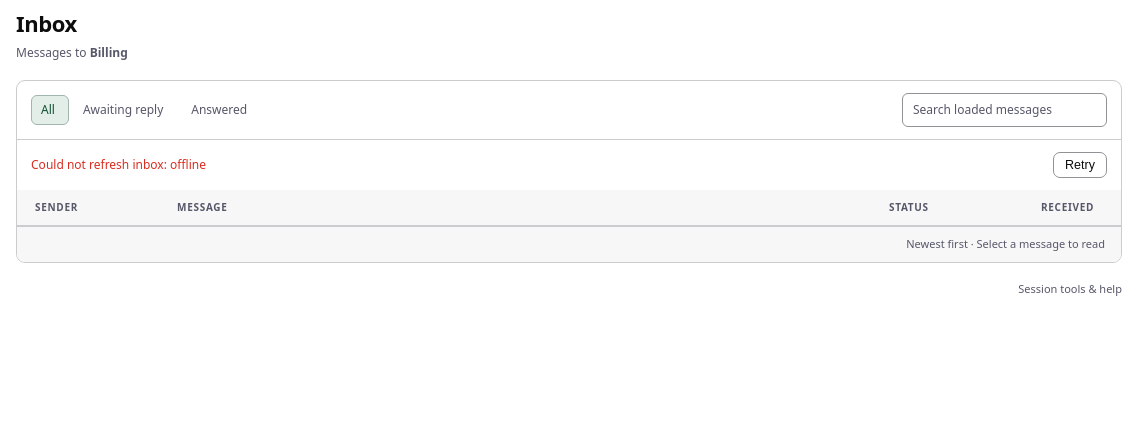
Scenario: session inbox › distinguishes an empty inbox from an API failure and supports retry
Expected: the message shows "offline", [170,156,206,173]
Expected: the text "No messages yet" is not shown
Click the button "Retry". click: click(1080, 165)
box: [1053,152,1107,178]
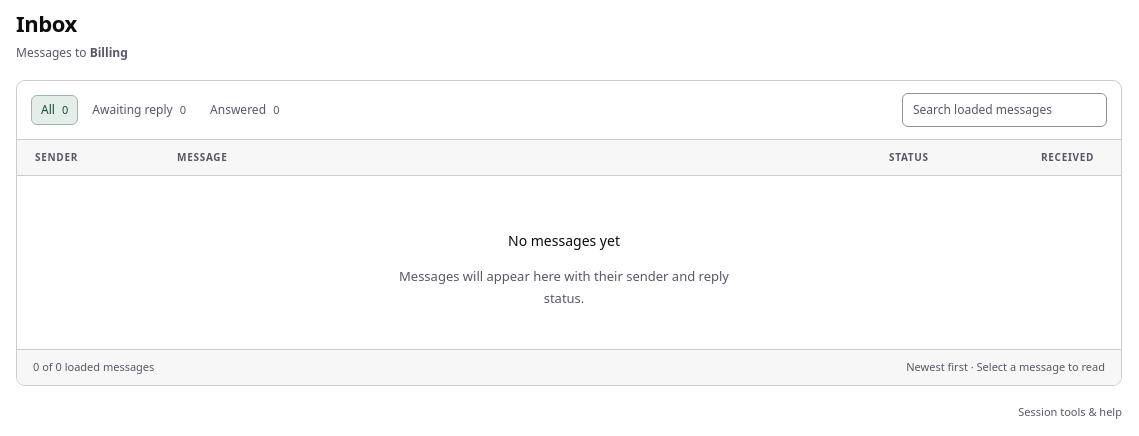
Now the heading "No messages yet" is shown, box [508,231,620,250]
